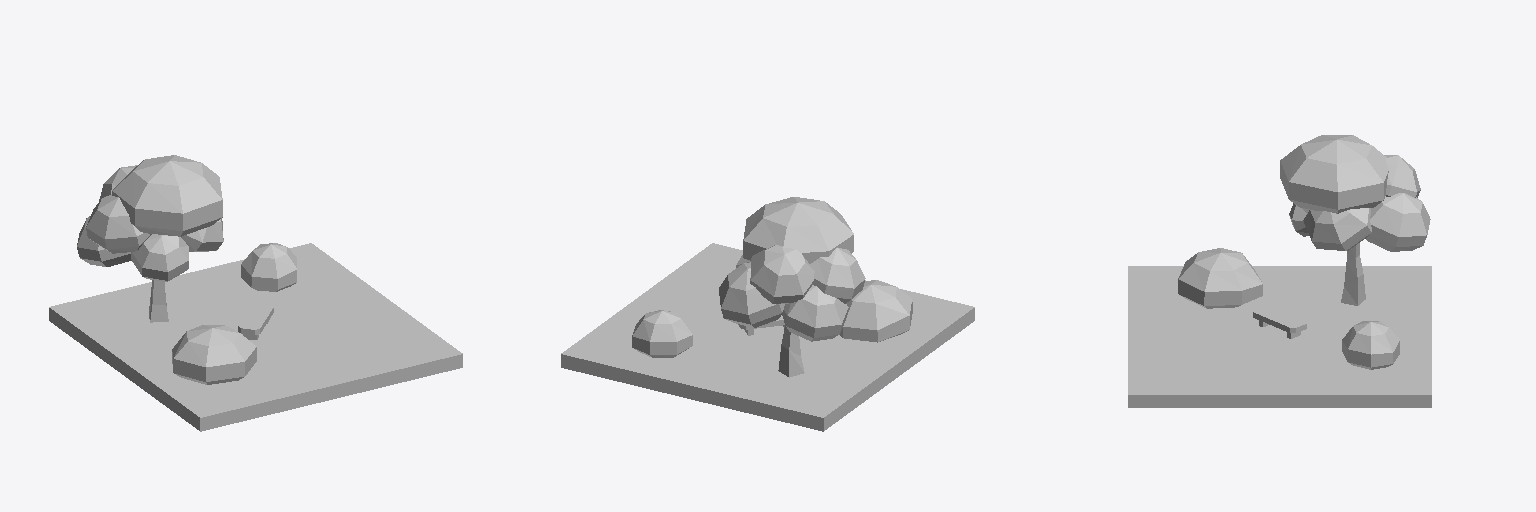
The model's file is park_road_corner_decorated.obj.
3 views of the same model, side by side, from view 1: azimuth 30°, elevation 25°; view 2: azimuth 150°, elevation 25°; view 3: azimuth 270°, elevation 25° (orthographic).
Visible parts, largest first — view 1: park_road_corner_decorated_Cube.14222; view 2: park_road_corner_decorated_Cube.14222; view 3: park_road_corner_decorated_Cube.14222.
Boxes of the visible parts, <box> form: park_road_corner_decorated_Cube.14222: <box>49,155,462,431</box>; park_road_corner_decorated_Cube.14222: <box>561,197,974,431</box>; park_road_corner_decorated_Cube.14222: <box>1128,135,1431,407</box>.
Bounding box in the file's own units: 2 × 1.28 × 2.